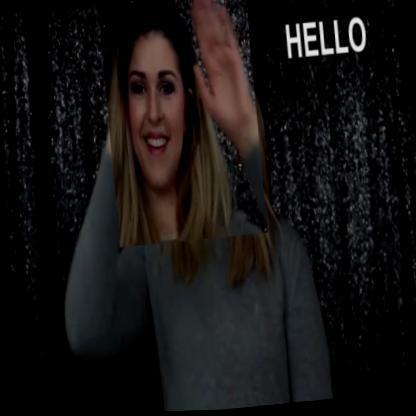Hello: (97, 0, 266, 248)
